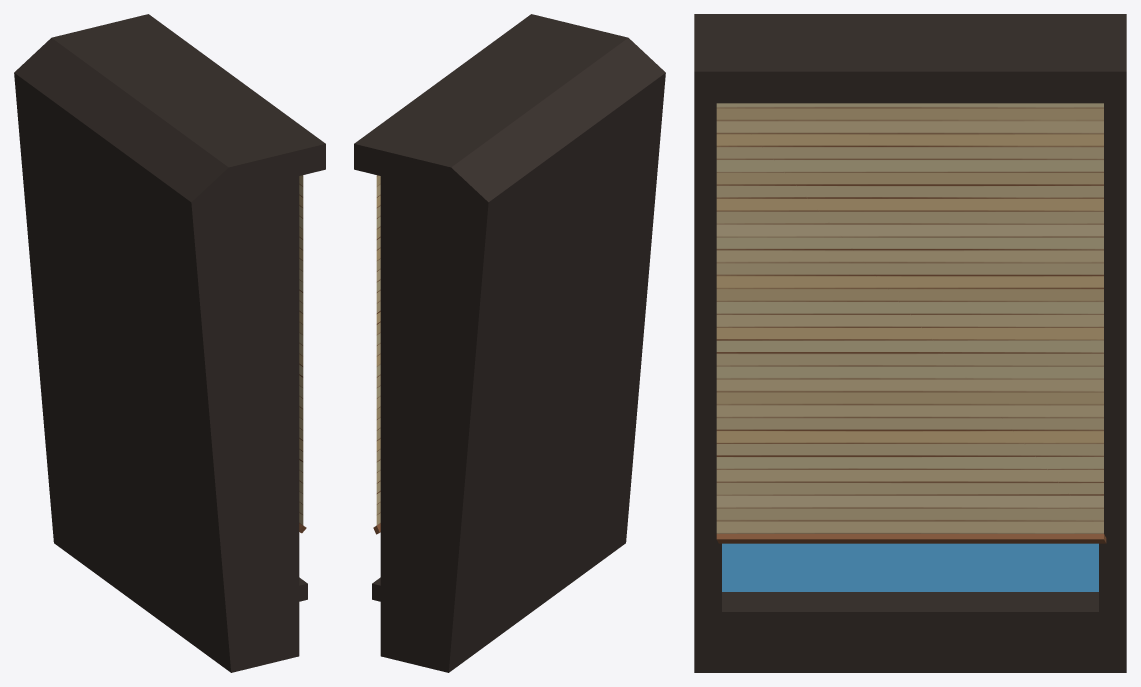
The model's file is Window1.fbx.
3 views of the same model, side by side, from view 1: azimuth 30°, elevation 25°; view 2: azimuth 150°, elevation 25°; view 3: azimuth 270°, elevation 25° (orthographic). The views are drawn at different scales.
Parts seen in each view (by area): view 1: Cube; view 2: Cube; view 3: Cube.
Boxes of the visible parts, box(x1,y1,x2,y2) form: Cube: box(14, 14, 325, 672); Cube: box(354, 14, 665, 672); Cube: box(694, 14, 1126, 672).
Size of the model in its own units: 1 by 3.6 by 2.28.
